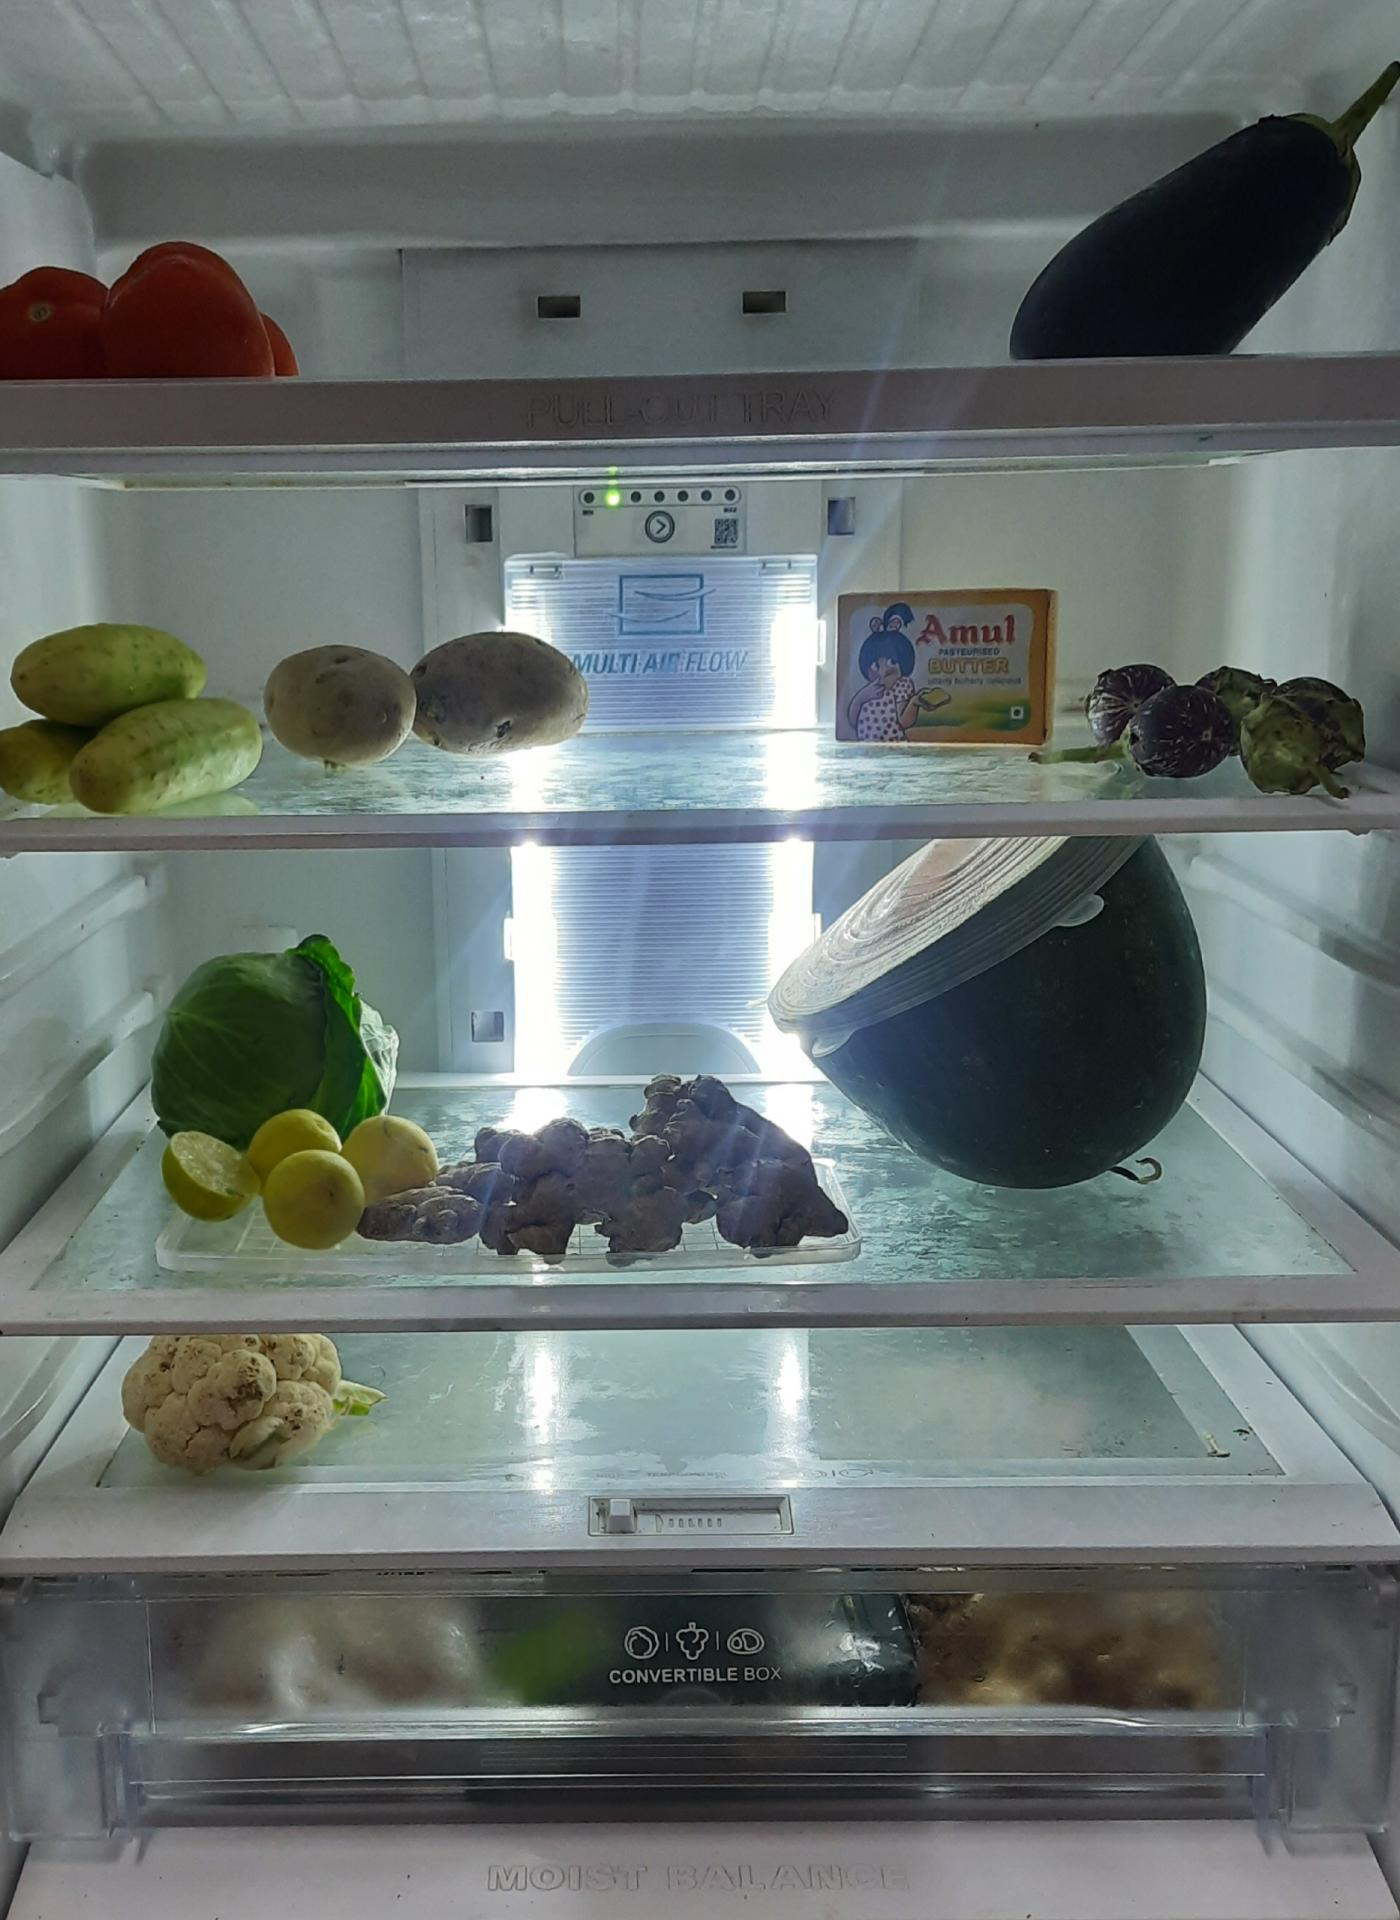brinjal: (987, 60, 1400, 361), (1066, 663, 1379, 786)
butter: (832, 580, 1056, 759)
cabbage: (146, 926, 398, 1137)
cauliflower: (121, 1322, 383, 1474)
cucumber: (0, 610, 262, 812)
ginger: (373, 1066, 854, 1261)
lemon: (142, 1103, 450, 1246)
potato: (268, 620, 598, 769)
tomato: (4, 237, 307, 386)
watermelon: (769, 842, 1206, 1194)
